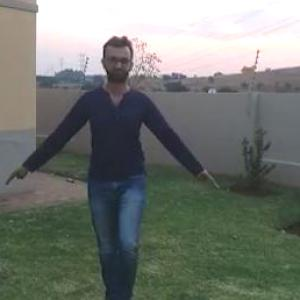land: (20, 37, 203, 284)
